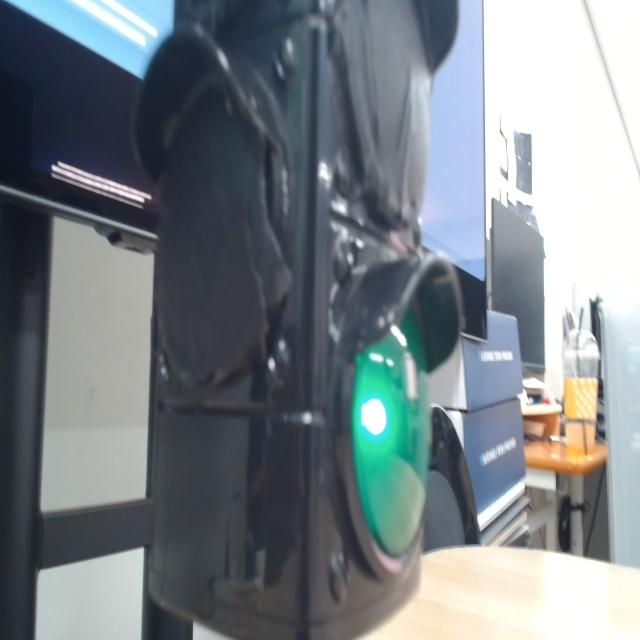green_light: (352, 312, 430, 557), (361, 399, 386, 436)
